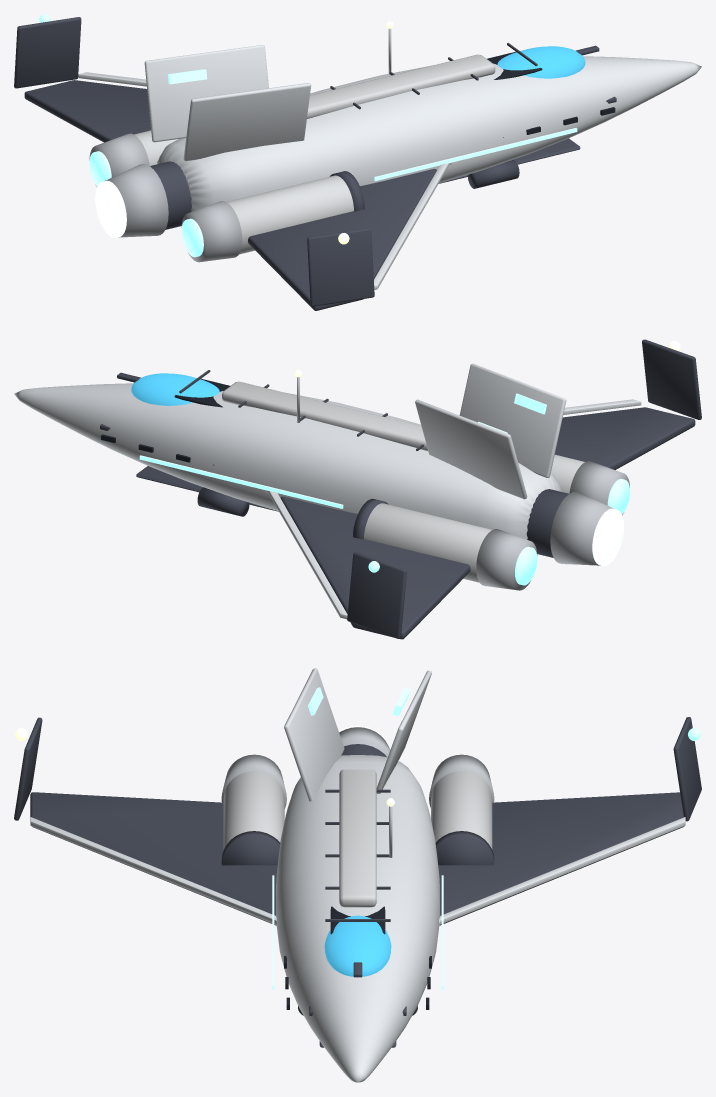
The model's file is spacecraft.glb.
3 renders of one model, top to bottom at view 1: azimuth 30°, elevation 25°; view 2: azimuth 150°, elevation 25°; view 3: azimuth 270°, elevation 25°, orthographic. The views are drawn at different scales.
Parts seen in each view (by area): view 1: spacecraft_Hull, spacecraft_Graphite, spacecraft_HullWarm, spacecraft_Steel, spacecraft_Cyan, spacecraft_Glass, spacecraft_Ice, spacecraft_DarkPanel; view 2: spacecraft_Hull, spacecraft_Graphite, spacecraft_HullWarm, spacecraft_Steel, spacecraft_Cyan, spacecraft_Glass, spacecraft_Ice, spacecraft_DarkPanel; view 3: spacecraft_Hull, spacecraft_Graphite, spacecraft_HullWarm, spacecraft_Steel, spacecraft_Glass, spacecraft_Cyan, spacecraft_DarkPanel.
Boxes of the visible parts, box(x1,y1,x2,y2) form: spacecraft_Hull: box(78, 45, 701, 289); spacecraft_Graphite: box(14, 17, 616, 310); spacecraft_HullWarm: box(134, 54, 495, 254); spacecraft_Steel: box(89, 28, 391, 262); spacecraft_Cyan: box(39, 14, 577, 257); spacecraft_Glass: box(497, 46, 585, 78); spacecraft_Ice: box(95, 180, 126, 237); spacecraft_DarkPanel: box(487, 51, 615, 137); spacecraft_Hull: box(14, 363, 641, 619); spacecraft_Graphite: box(100, 339, 701, 639); spacecraft_HullWarm: box(222, 381, 584, 582); spacecraft_Steel: box(297, 377, 629, 590); spacecraft_Cyan: box(139, 393, 629, 585); spacecraft_Glass: box(131, 373, 219, 405); spacecraft_Ice: box(592, 508, 623, 566); spacecraft_DarkPanel: box(101, 378, 229, 465); spacecraft_Hull: box(30, 668, 685, 1082); spacecraft_Graphite: box(14, 717, 701, 1047); spacecraft_HullWarm: box(223, 769, 492, 907); spacecraft_Steel: box(221, 727, 494, 857); spacecraft_Glass: box(324, 915, 391, 976); spacecraft_Cyan: box(272, 687, 700, 989); spacecraft_DarkPanel: box(284, 906, 431, 1009).
Bounding box in the file's own units: 7.04 × 1.76 × 6.3.
